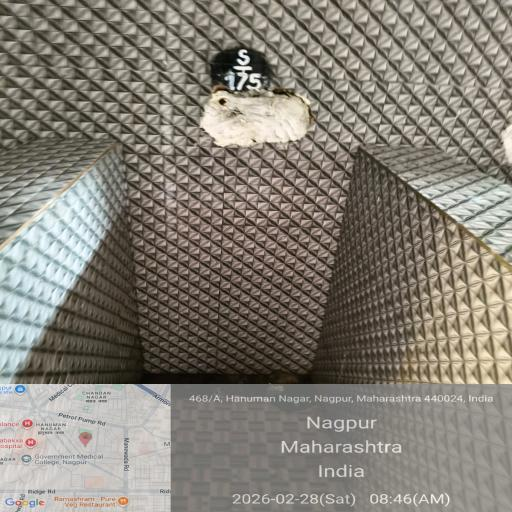clean_floor: (0, 0, 180, 367), (189, 6, 481, 195), (180, 205, 512, 369)
